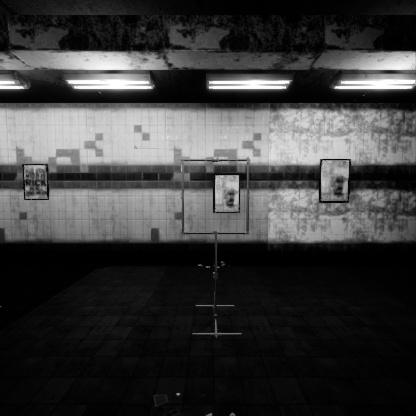gate: (181, 181, 256, 257)
